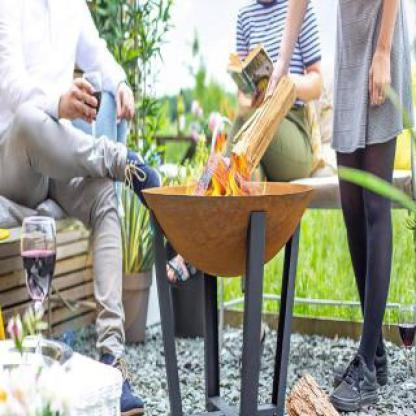fire: (184, 135, 252, 198)
